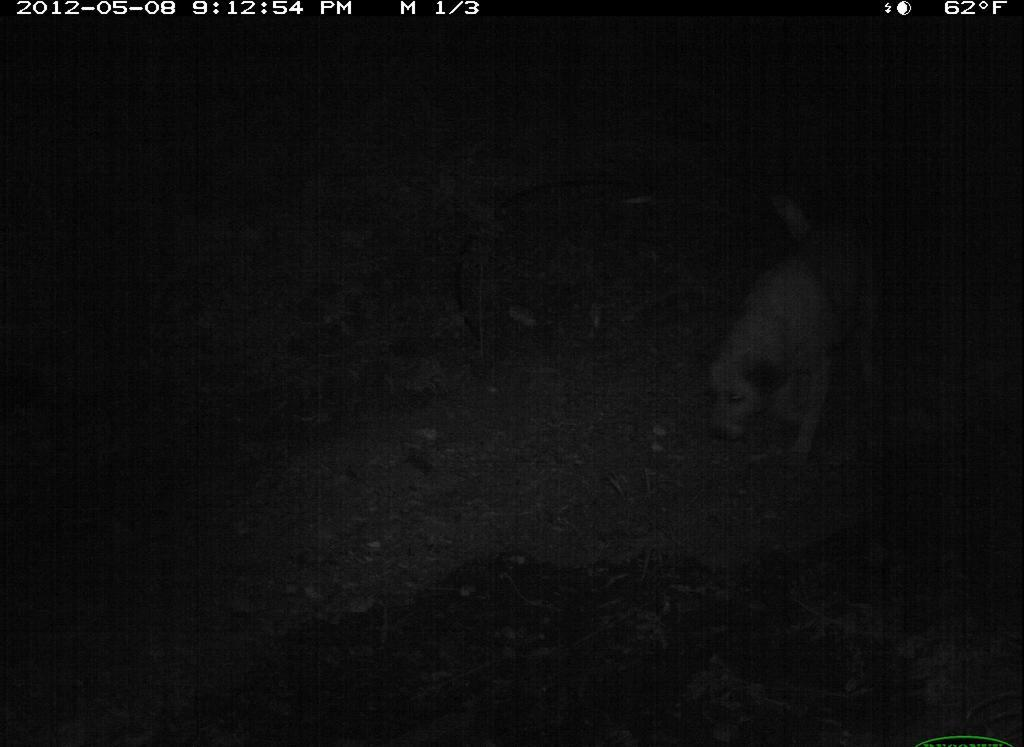dog: (701, 166, 918, 492)
